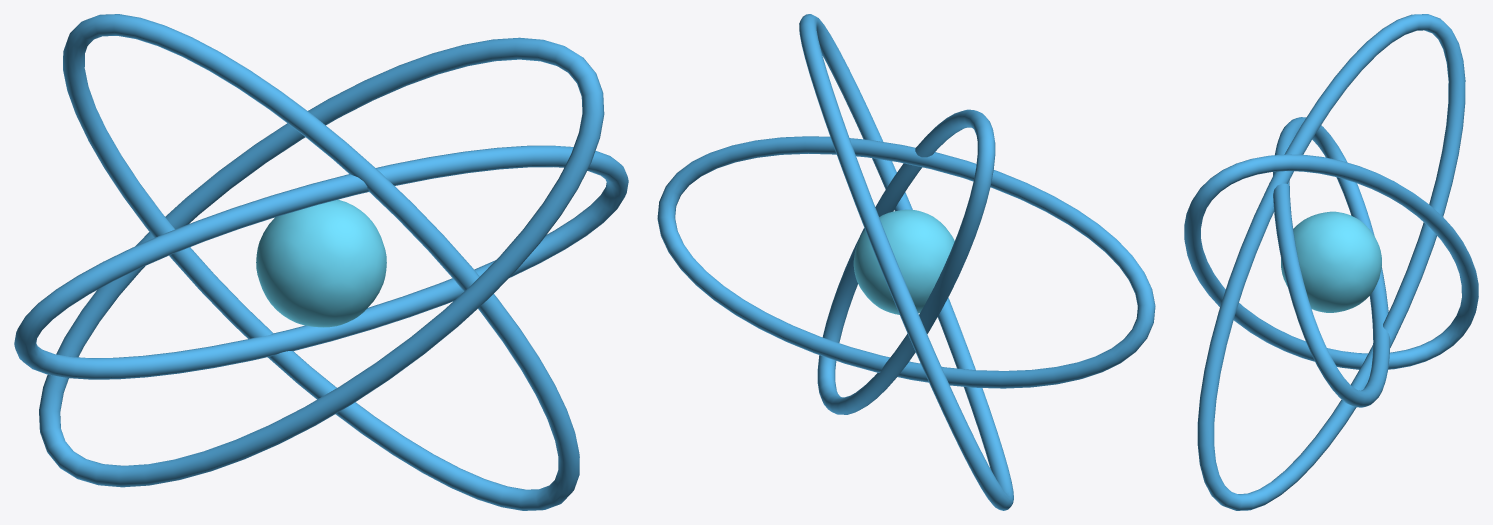
The picture shows the model from 3 angles, left to right: view 1: azimuth 30°, elevation 25°; view 2: azimuth 150°, elevation 25°; view 3: azimuth 270°, elevation 25°; orthographic projection. The views are drawn at different scales.
Visible parts, largest first — view 1: Curve.001, Icosphere; view 2: Curve.001, Icosphere; view 3: Curve.001, Icosphere.
Part boxes in pixels (x1=…): Curve.001: x1=14, y1=14, x2=628, y2=510; Icosphere: x1=256, y1=199, x2=386, y2=327; Curve.001: x1=657, y1=14, x2=1155, y2=510; Icosphere: x1=853, y1=209, x2=954, y2=314; Curve.001: x1=1184, y1=14, x2=1478, y2=510; Icosphere: x1=1281, y1=211, x2=1381, y2=312.
Bounding box in the file's own units: 2.72 × 2.1 × 1.47.
